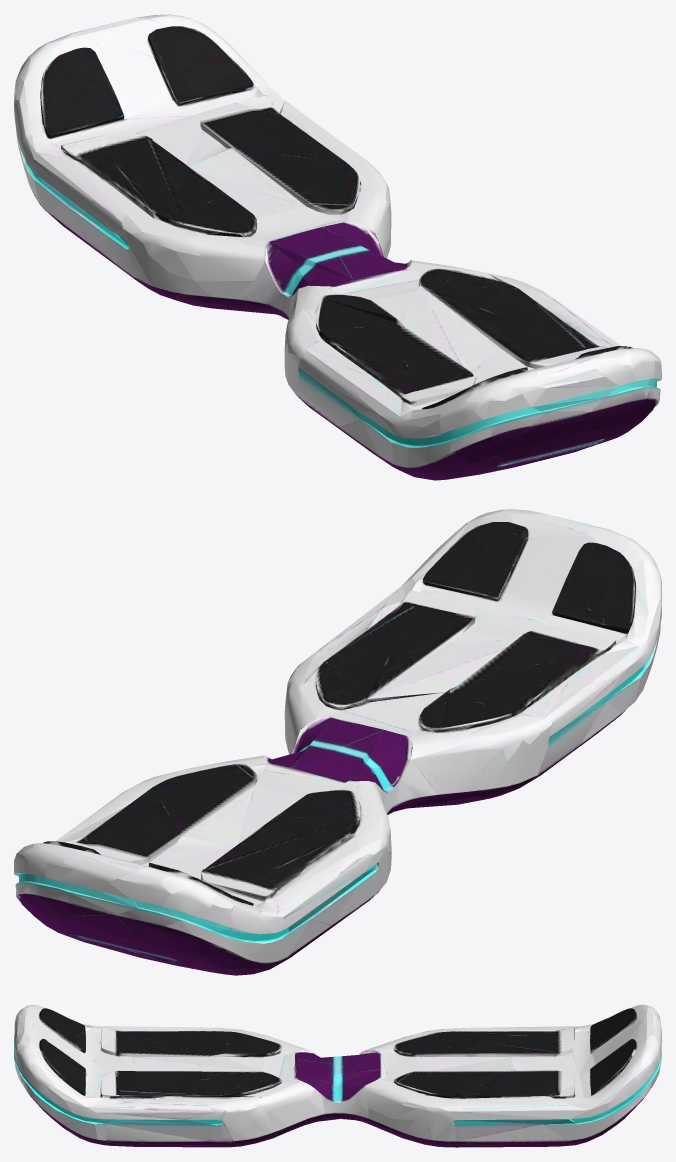
Rendered from hoverboard.glb.
The picture shows the model from 3 angles, top to bottom: view 1: azimuth 30°, elevation 25°; view 2: azimuth 150°, elevation 25°; view 3: azimuth 270°, elevation 25°; orthographic projection. The views are drawn at different scales.
Parts seen in each view (by area): view 1: Mesh_0; view 2: Mesh_0; view 3: Mesh_0.
Boxes of the visible parts, bbox=[...] form: Mesh_0: bbox=[14, 14, 661, 480]; Mesh_0: bbox=[14, 509, 661, 975]; Mesh_0: bbox=[14, 1004, 661, 1147].
Size of the model in its own units: 0.2733 by 0.1472 by 0.9.
1 material, 1 textured.
